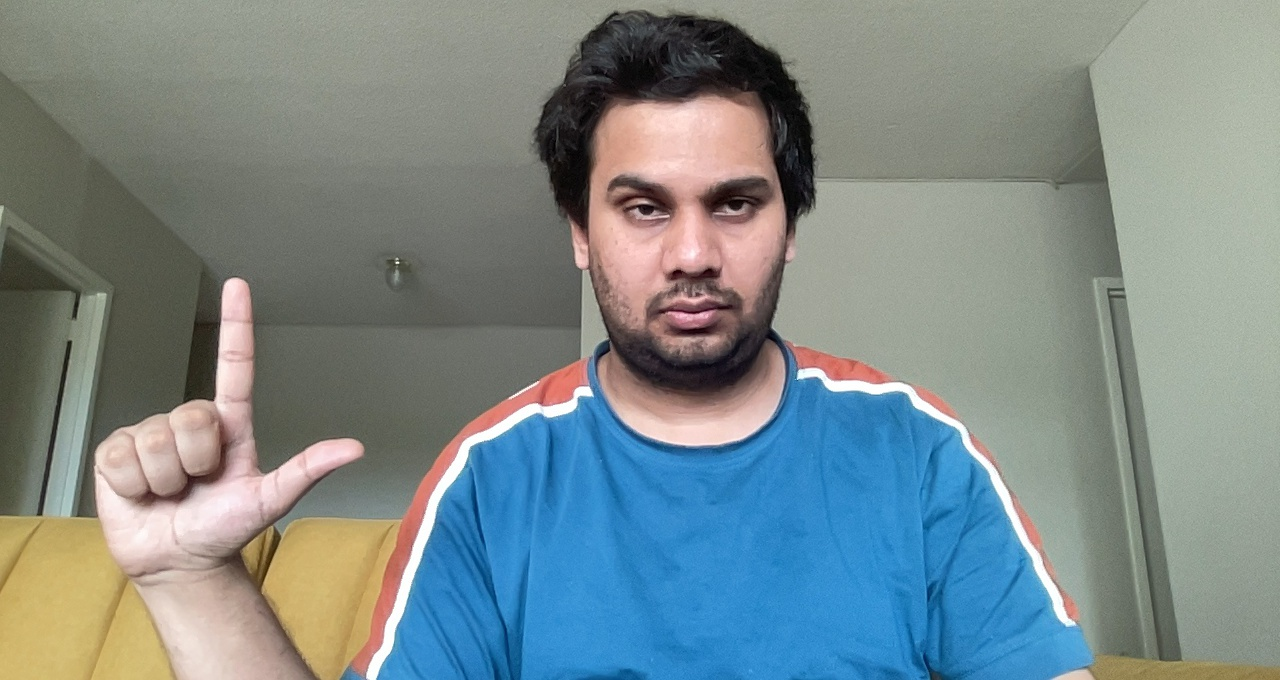L: (77, 269, 377, 587)
